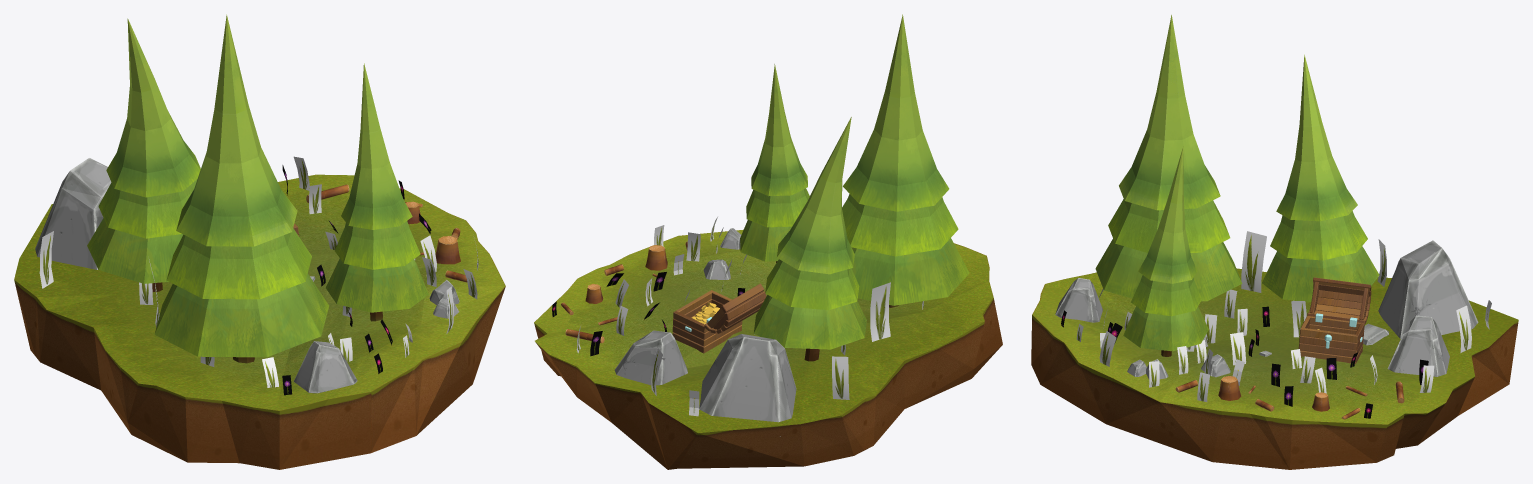
Rendered from Forest Chest.fbx.
3 renders of one model, left to right at view 1: azimuth 30°, elevation 25°; view 2: azimuth 150°, elevation 25°; view 3: azimuth 270°, elevation 25°, orthographic. The views are drawn at different scales.
Visible parts, largest first — view 1: Island_2, Tree_2_3, Tree, Tree_3, Stone_2, Stone_8, Plane_25, Cut__Wood_2; view 2: Island_2, Tree_2_3, Tree, Stone_2, Tree_3, Chest, Stone, Plane_23, Plane_25, Cut__Wood_2; view 3: Island_2, Tree_2_3, Tree, Tree_3, Stone_2, Chest, Stone, Stone_8, Plane_23, Plane_5.
Boxes of the visible parts, x1=… form: Island_2: x1=14, y1=174, x2=505, y2=469; Tree_2_3: x1=154, y1=14, x2=328, y2=363; Tree: x1=87, y1=18, x2=200, y2=291; Tree_3: x1=326, y1=63, x2=428, y2=321; Stone_2: x1=35, y1=158, x2=111, y2=269; Stone_8: x1=293, y1=341, x2=357, y2=393; Plane_25: x1=39, y1=231, x2=53, y2=288; Cut__Wood_2: x1=435, y1=236, x2=460, y2=264; Island_2: x1=534, y1=229, x2=1002, y2=469; Tree_2_3: x1=842, y1=14, x2=969, y2=307; Tree: x1=753, y1=117, x2=866, y2=361; Stone_2: x1=699, y1=334, x2=796, y2=436; Tree_3: x1=740, y1=64, x2=809, y2=262; Chest: x1=672, y1=283, x2=766, y2=353; Stone: x1=614, y1=330, x2=687, y2=385; Plane_23: x1=870, y1=282, x2=890, y2=341; Plane_25: x1=832, y1=356, x2=849, y2=399; Cut__Wood_2: x1=645, y1=245, x2=667, y2=270; Island_2: x1=1031, y1=268, x2=1518, y2=469; Tree_2_3: x1=1095, y1=15, x2=1242, y2=301; Tree: x1=1262, y1=54, x2=1379, y2=301; Tree_3: x1=1123, y1=147, x2=1208, y2=356; Stone_2: x1=1378, y1=240, x2=1478, y2=338; Chest: x1=1298, y1=277, x2=1371, y2=363; Stone: x1=1387, y1=315, x2=1449, y2=376; Stone_8: x1=1055, y1=278, x2=1102, y2=322; Plane_23: x1=1241, y1=231, x2=1266, y2=292; Plane_5: x1=1456, y1=305, x2=1471, y2=352.
Bounding box in the file's own units: 282 × 274 × 353.
Materials: 9 (9 with a texture image).
